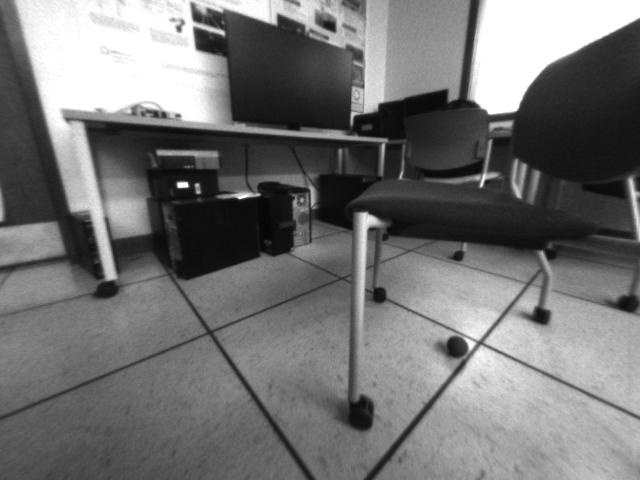dogtoy: (440, 330, 475, 363)
